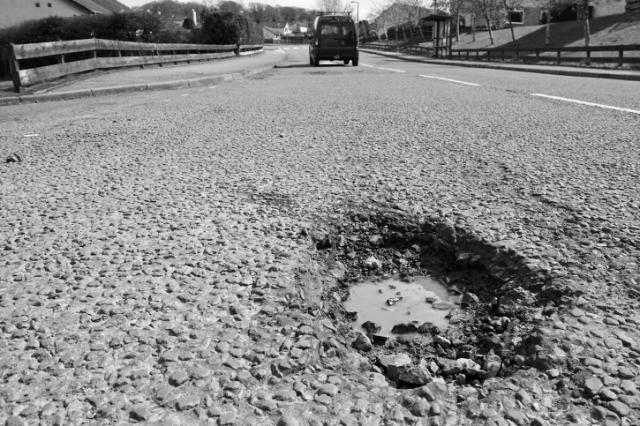Pothole: (305, 194, 549, 398)
